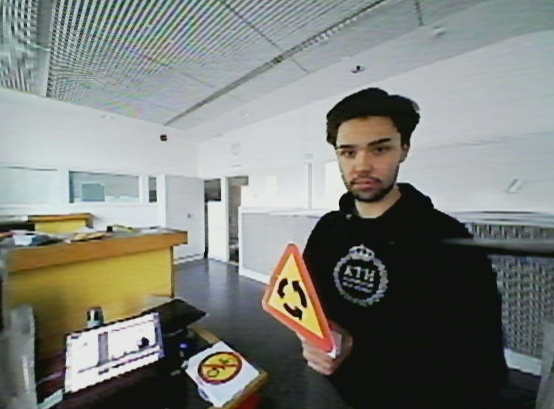roundabout_warning: (257, 239, 342, 359)
